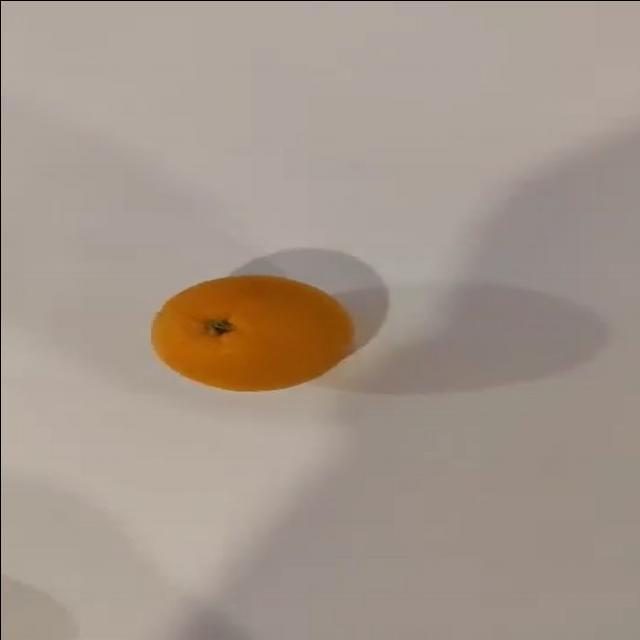Orange: (150, 273, 354, 392)
